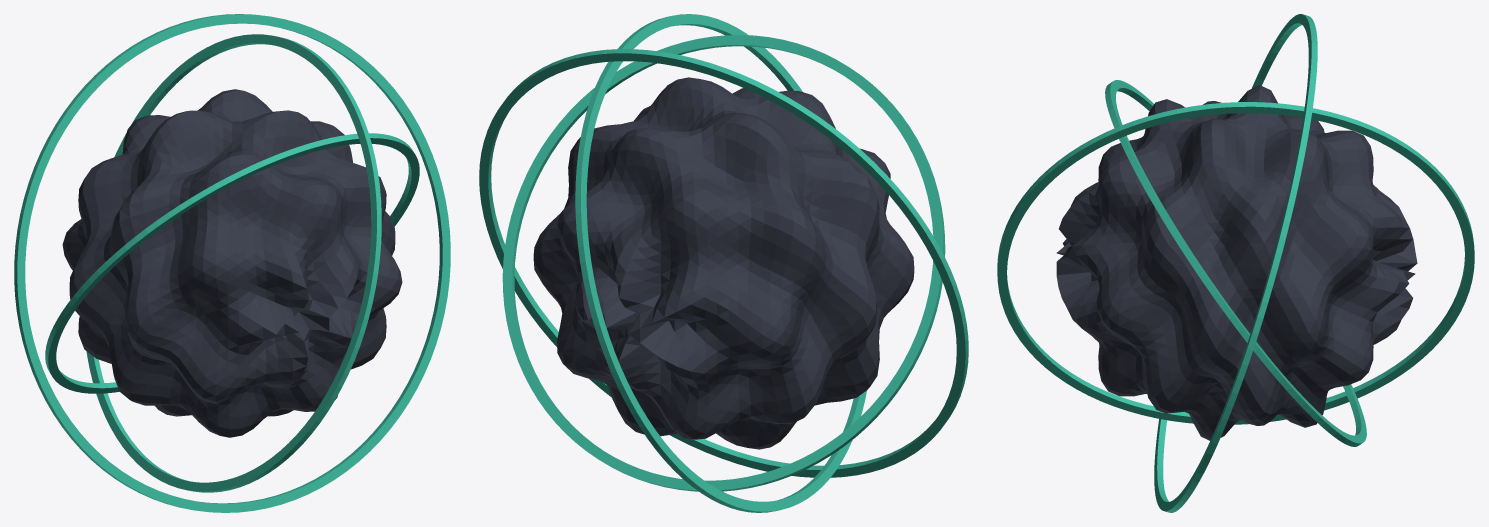
File: gpu-artifact.glb
The picture shows the model from 3 angles, left to right: view 1: azimuth 30°, elevation 25°; view 2: azimuth 150°, elevation 25°; view 3: azimuth 270°, elevation 25°; orthographic projection. The views are drawn at different scales.
Visible parts, largest first — view 1: envguard-secrets-vault_obsidian_core, envguard-secrets-vault_orbital_ring_2, envguard-secrets-vault_orbital_ring_1, envguard-secrets-vault_orbital_ring_0; view 2: envguard-secrets-vault_obsidian_core, envguard-secrets-vault_orbital_ring_0, envguard-secrets-vault_orbital_ring_2, envguard-secrets-vault_orbital_ring_1; view 3: envguard-secrets-vault_obsidian_core, envguard-secrets-vault_orbital_ring_1, envguard-secrets-vault_orbital_ring_2, envguard-secrets-vault_orbital_ring_0.
Boxes of the visible parts, x1=… form: envguard-secrets-vault_obsidian_core: x1=62, y1=89, x2=402, y2=437; envguard-secrets-vault_orbital_ring_2: x1=14, y1=14, x2=450, y2=512; envguard-secrets-vault_orbital_ring_1: x1=86, y1=34, x2=381, y2=492; envguard-secrets-vault_orbital_ring_0: x1=45, y1=133, x2=419, y2=393; envguard-secrets-vault_obsidian_core: x1=533, y1=77, x2=914, y2=449; envguard-secrets-vault_orbital_ring_0: x1=502, y1=35, x2=945, y2=491; envguard-secrets-vault_orbital_ring_2: x1=479, y1=49, x2=968, y2=477; envguard-secrets-vault_orbital_ring_1: x1=575, y1=14, x2=866, y2=512; envguard-secrets-vault_obsidian_core: x1=1056, y1=85, x2=1417, y2=440; envguard-secrets-vault_orbital_ring_1: x1=997, y1=102, x2=1474, y2=424; envguard-secrets-vault_orbital_ring_2: x1=1154, y1=14, x2=1317, y2=512; envguard-secrets-vault_orbital_ring_0: x1=1105, y1=80, x2=1366, y2=446.
Size of the model in its own units: 3.24 by 3.1 by 3.
